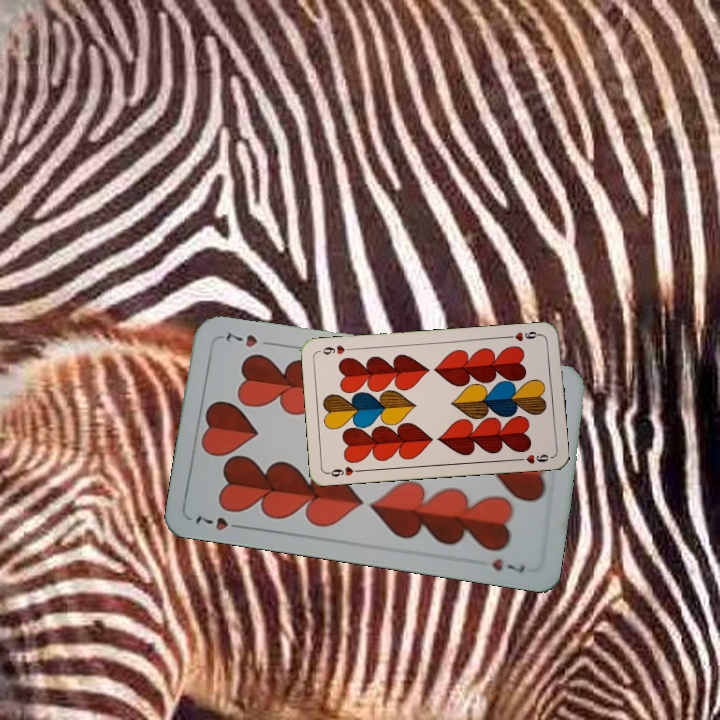H7: (191, 511, 248, 534)
H9: (324, 462, 365, 479), (503, 327, 544, 344)
